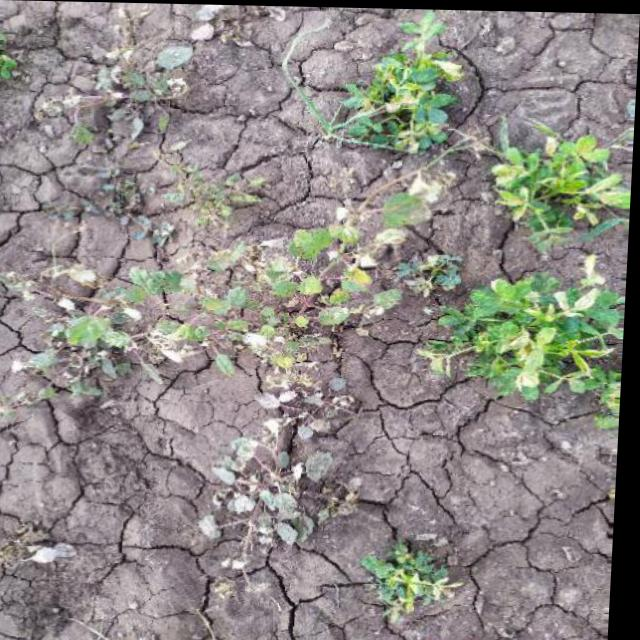weed: (160, 427, 473, 627), (84, 220, 429, 374), (438, 259, 630, 402), (279, 40, 496, 161)
